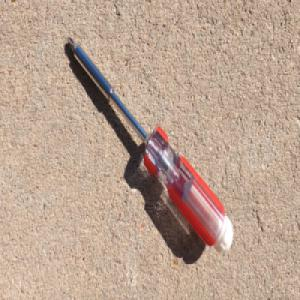Screwdriver: (65, 34, 234, 256)
